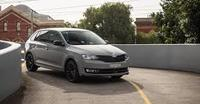car: (24, 27, 129, 82)
